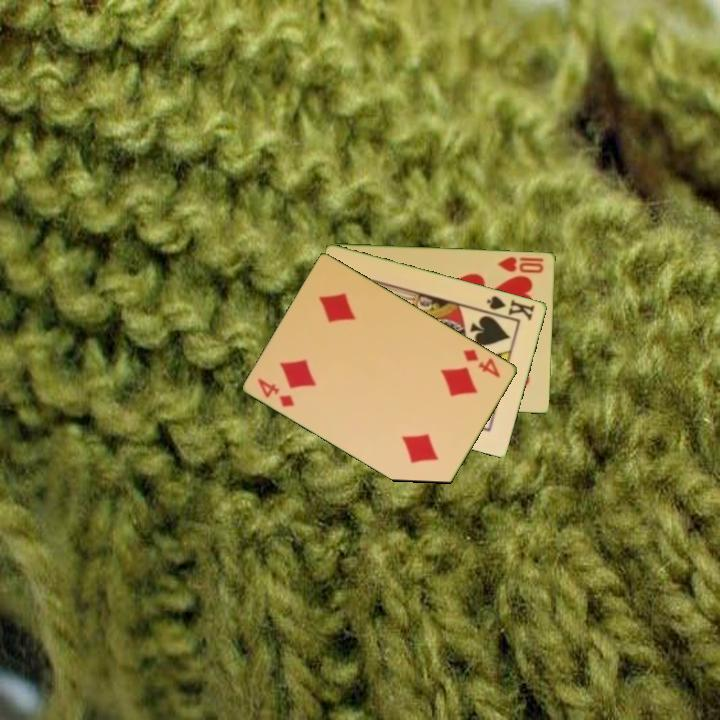10h: (494, 253, 546, 276)
4d: (254, 374, 298, 410), (459, 345, 504, 380)
Ks: (483, 292, 538, 323)
